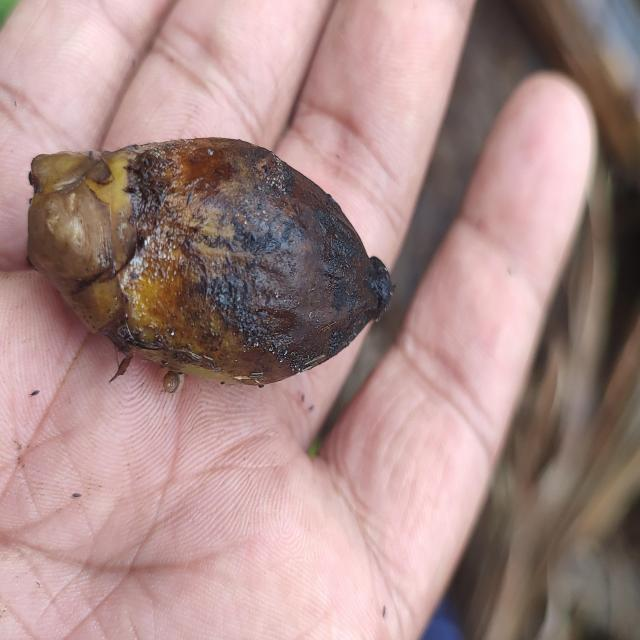damaged: (20, 136, 395, 396)
